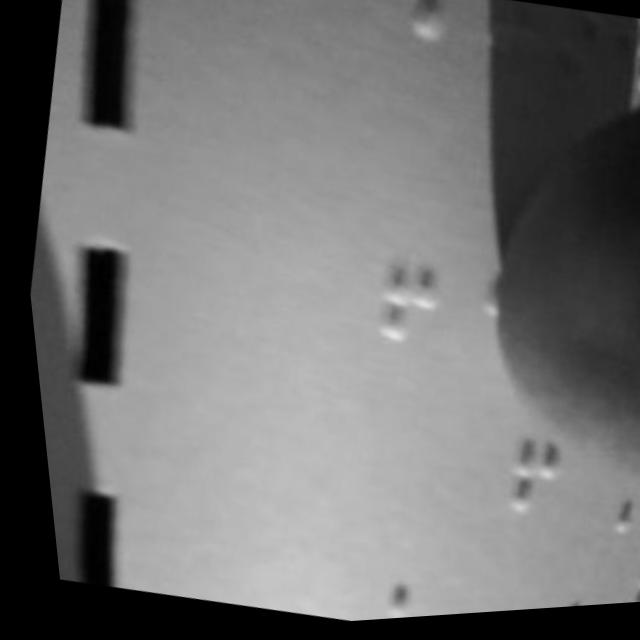braiile: (355, 207, 460, 366), (400, 0, 491, 72), (399, 553, 475, 622), (456, 569, 523, 619)
